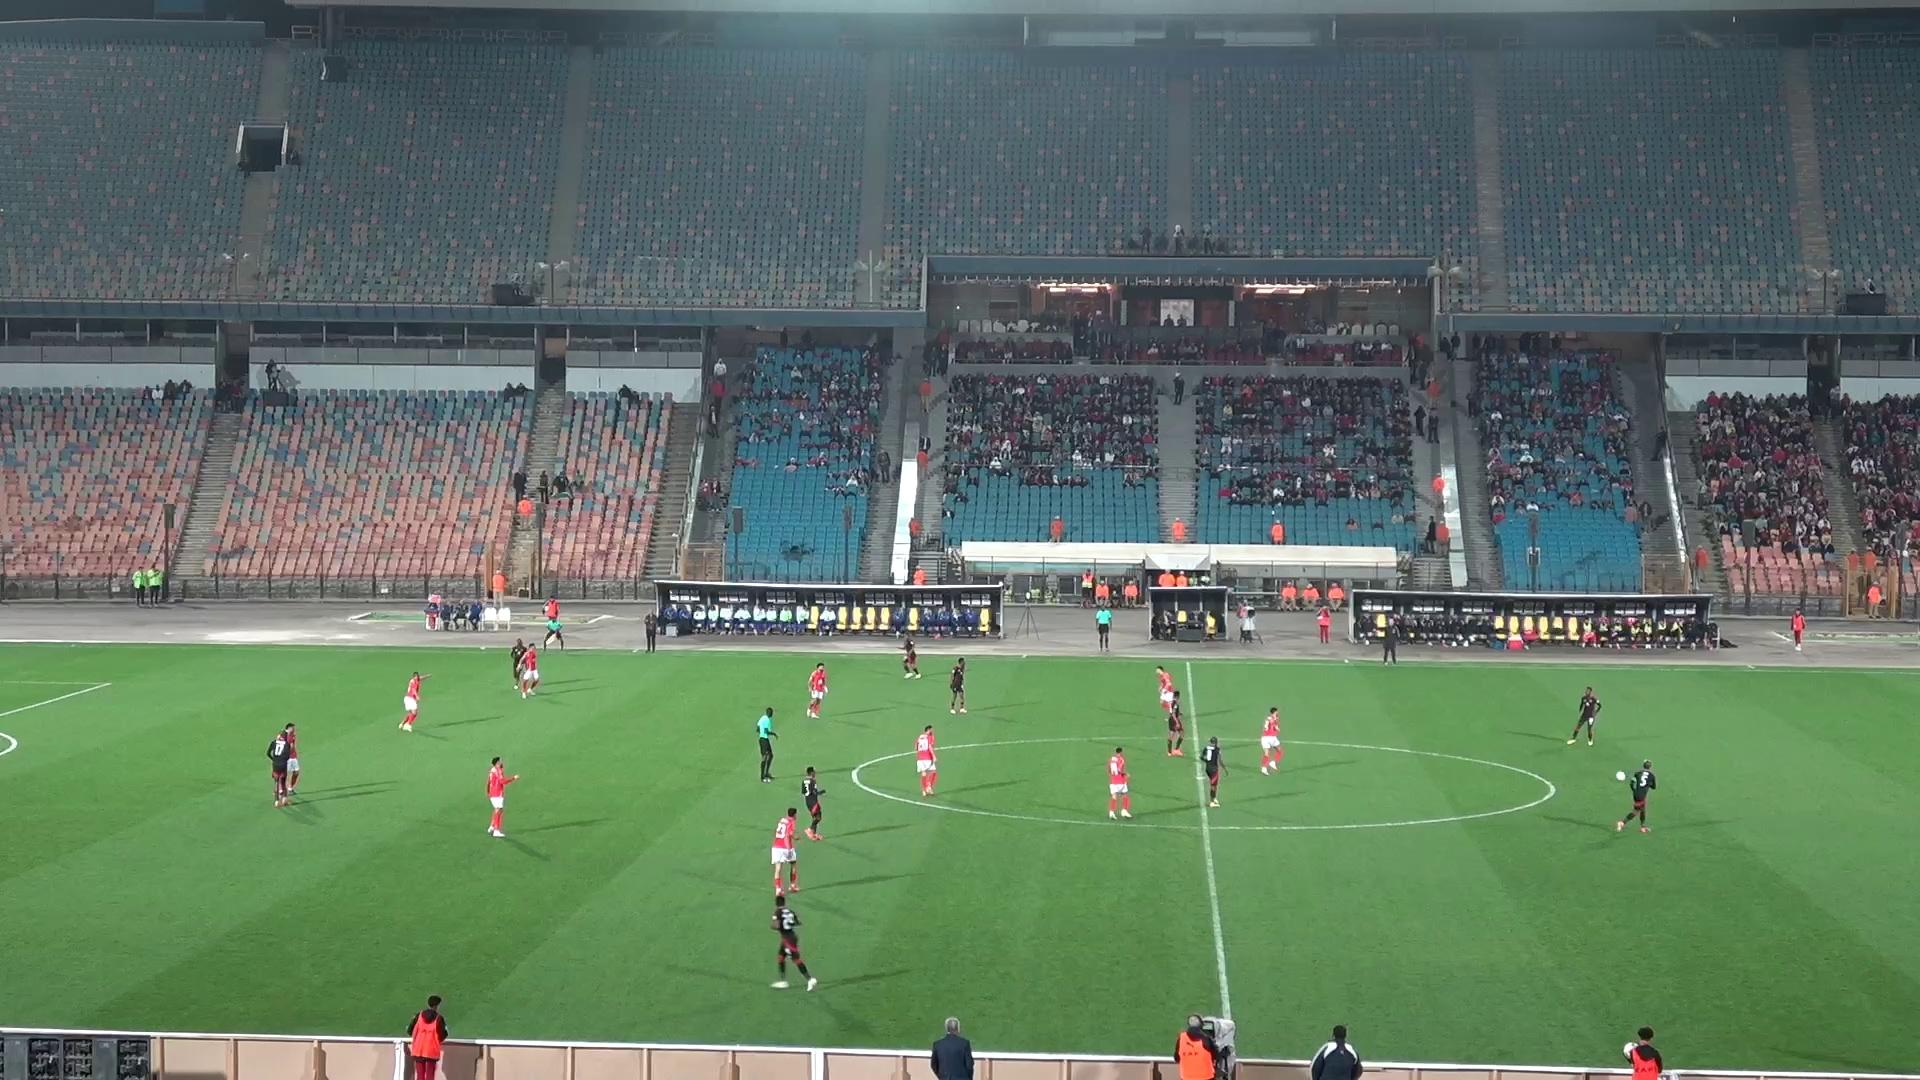Ball: (1614, 771, 1631, 781)
Refree: (753, 707, 777, 782), (1095, 597, 1112, 651), (537, 616, 564, 647)
Team1: (484, 756, 520, 837), (771, 808, 799, 898), (398, 673, 429, 732), (1106, 748, 1131, 819), (1258, 708, 1283, 775), (522, 641, 550, 700), (281, 723, 301, 803), (916, 727, 938, 796), (804, 663, 829, 717), (1156, 667, 1183, 713)
Team2: (771, 894, 818, 989), (1615, 760, 1658, 833), (266, 723, 293, 804), (1567, 686, 1601, 744), (800, 766, 825, 840), (1200, 736, 1225, 807), (1162, 682, 1184, 756), (948, 657, 968, 713), (510, 638, 527, 687), (902, 640, 922, 679)
